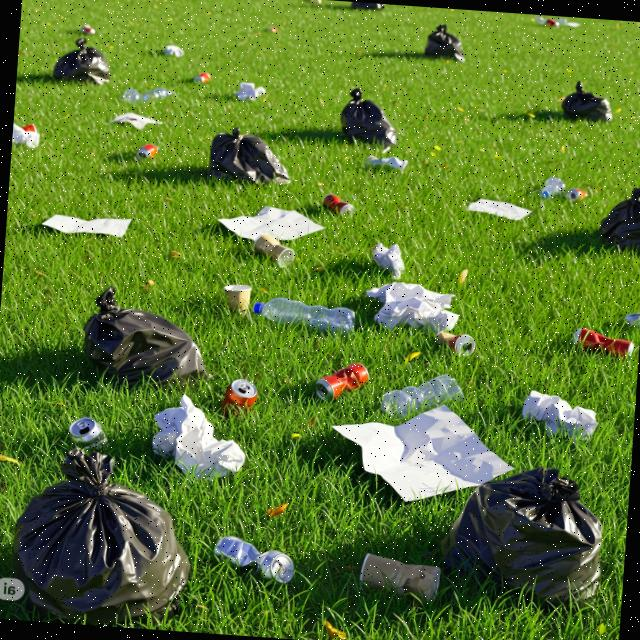aluminum: (206, 536, 294, 583), (312, 358, 371, 406), (570, 326, 634, 362), (68, 412, 105, 452), (222, 376, 258, 410), (322, 192, 355, 218), (134, 140, 160, 161)
paper: (146, 400, 246, 483), (516, 384, 604, 444), (362, 280, 459, 332), (360, 549, 439, 601), (41, 208, 128, 242), (222, 282, 255, 320)
plastic: (250, 288, 362, 338)
